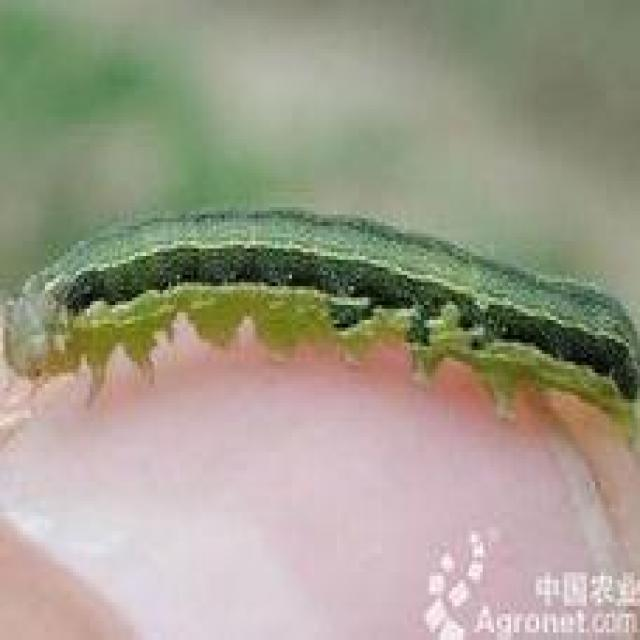BeetArmyWorm-Larva-: (2, 198, 637, 424)
